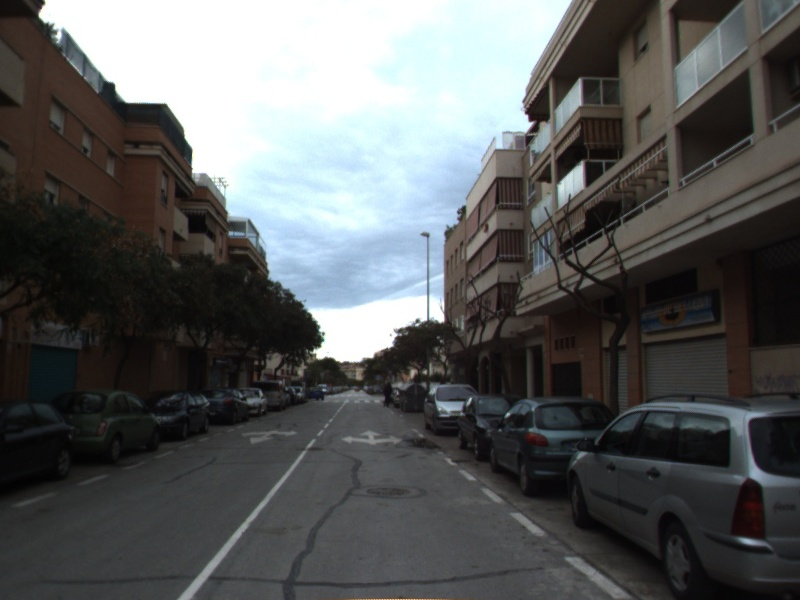STRAIGHT_LEFT_RIGHT: (339, 428, 405, 447)
